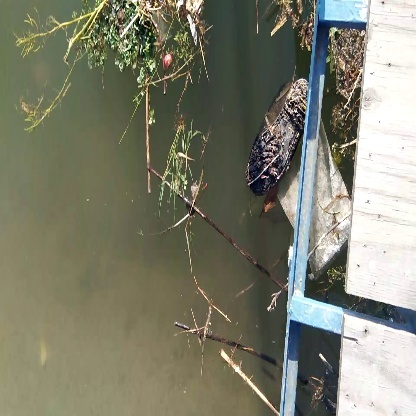plastic-garbage: (245, 69, 312, 199)
